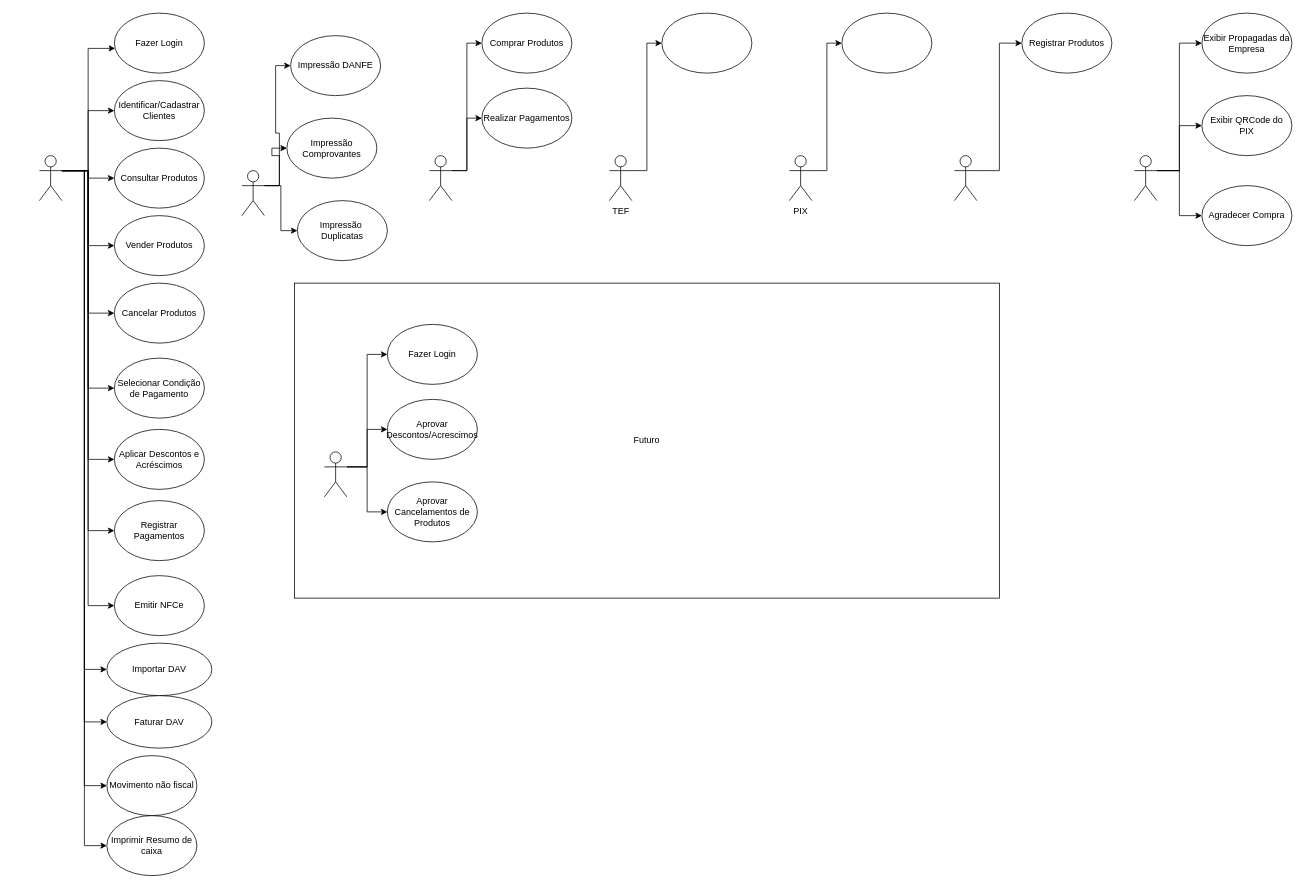
This 1305x889 diagram has some shape labels left out. Here are the shapes that lost their labels. From the top down, the centre of each, then its label:
At point 706,42: "Autorizar pagamentos Cartão Débito/Crédito".
At point 886,42: "Autorizar pagamentos PIX".
At point 50,178: "Operador de Caixa".
At point 252,193: "Servidor de Impressão".
At point 440,178: "Cliente".
At point 965,178: "Leitor de Código de barras".
At point 1145,178: "Display Secundário".
At point 335,474: "Supervisor".
